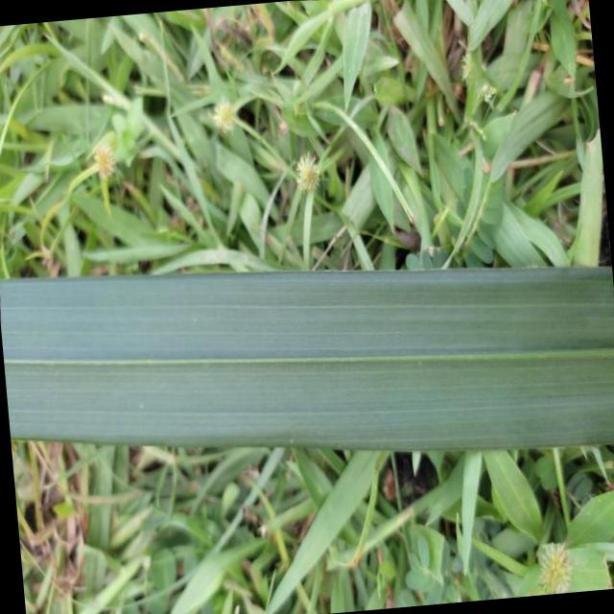Healthy: (0, 272, 614, 448)
